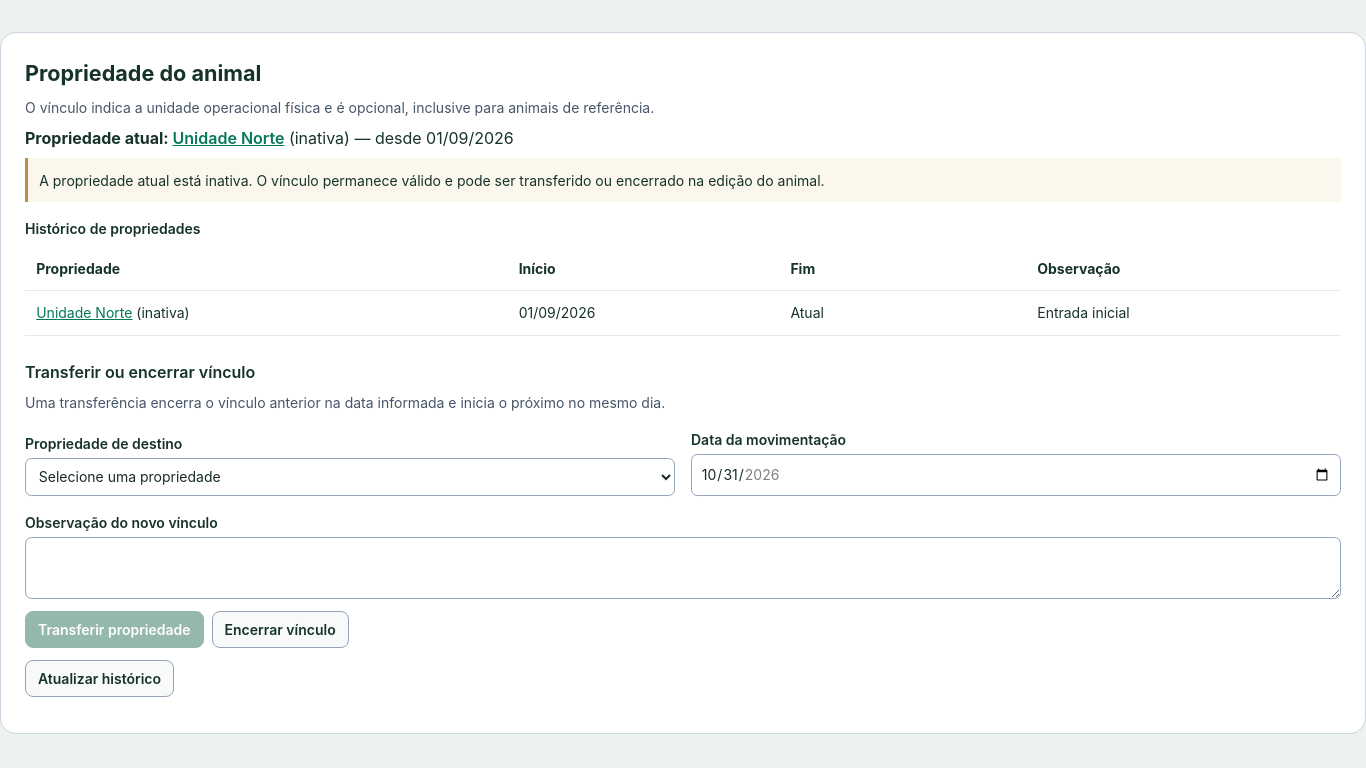
AnimalPropertiesPanel › encerra vínculo sem excluir o histórico e mantém animal sem propriedade
Check: the button "Encerrar vínculo" is shown, box [212,611,349,648]
Step 1. Type "2026-09-02" into the date field labelled "Data da movimentação" → (1016, 475), box [691,454,1341,496]
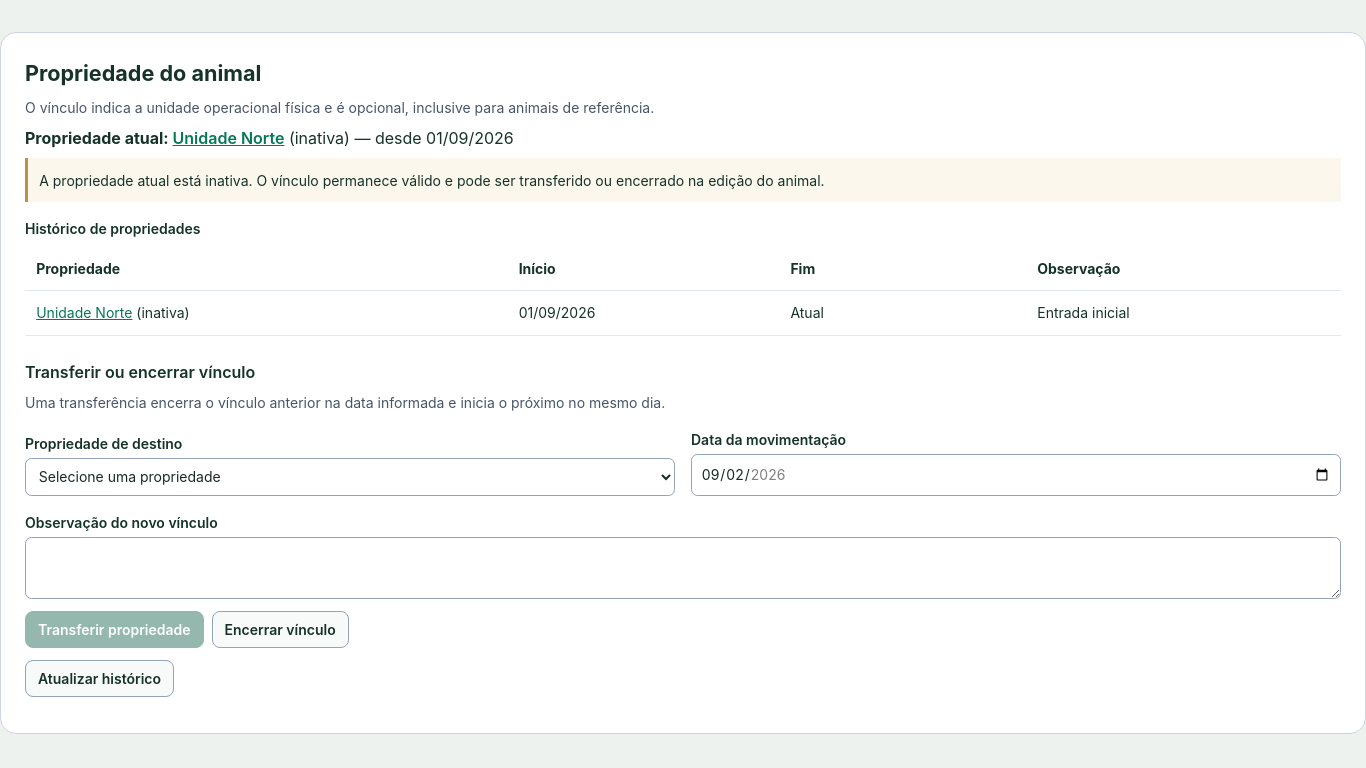
Step 2. Click the button "Encerrar vínculo" → (280, 629), box [212,611,349,648]
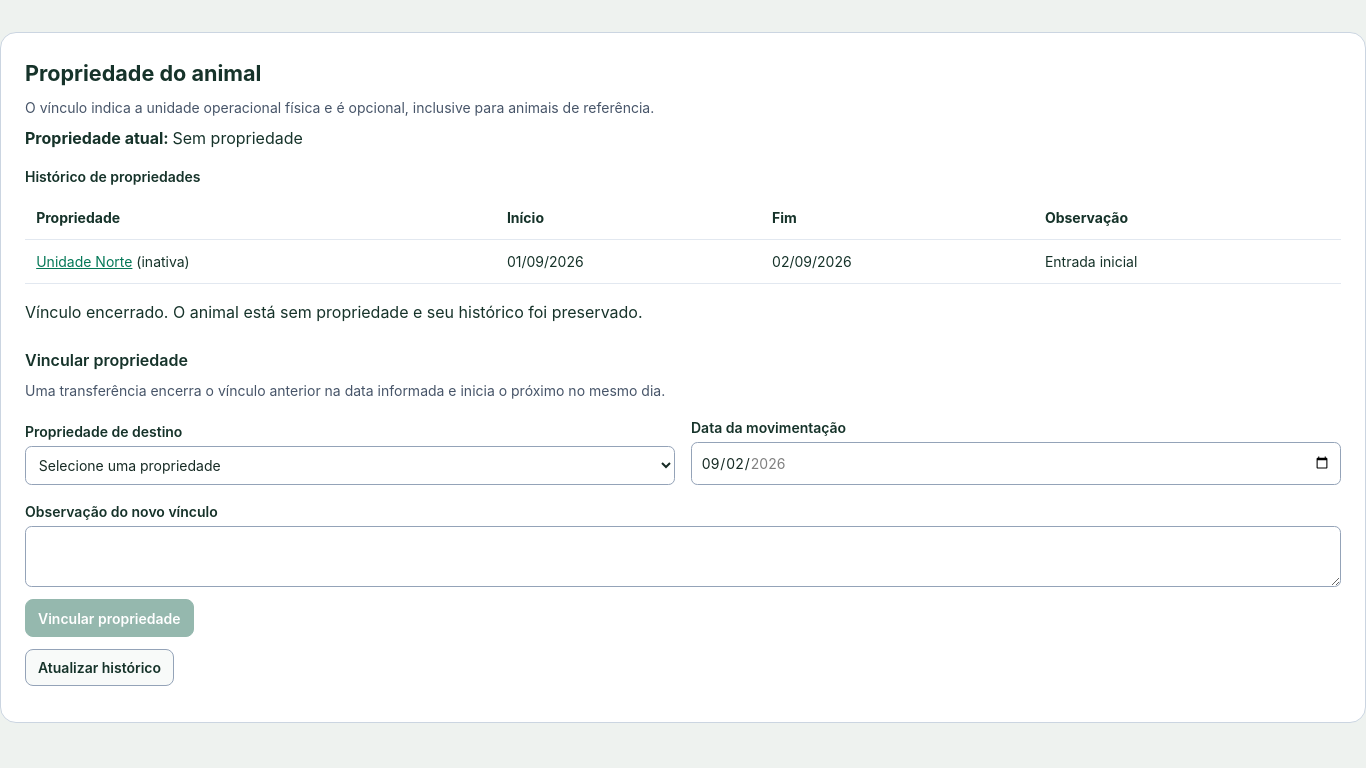
Check: the table shows "Entrada inicial", box [1045,253,1137,270]
Check: the text "Sem propriedade" is shown, box [172,128,303,148]
Check: the heading "encerrar vínculo" is gone
